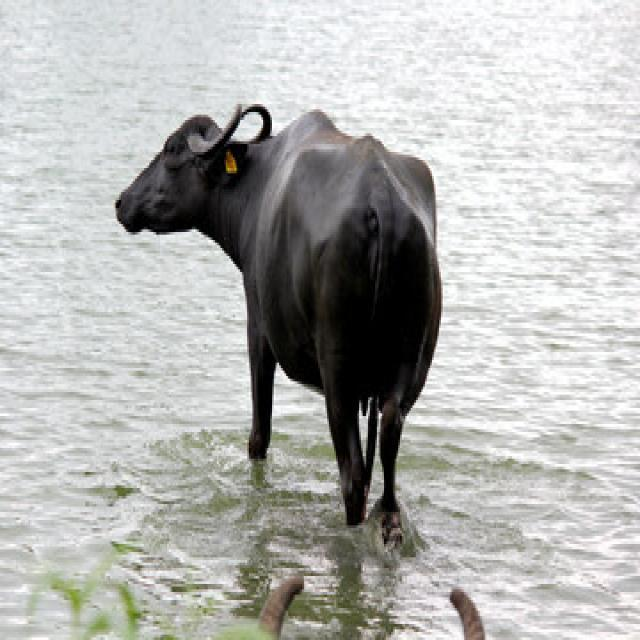Buffalo: (115, 99, 443, 525)
